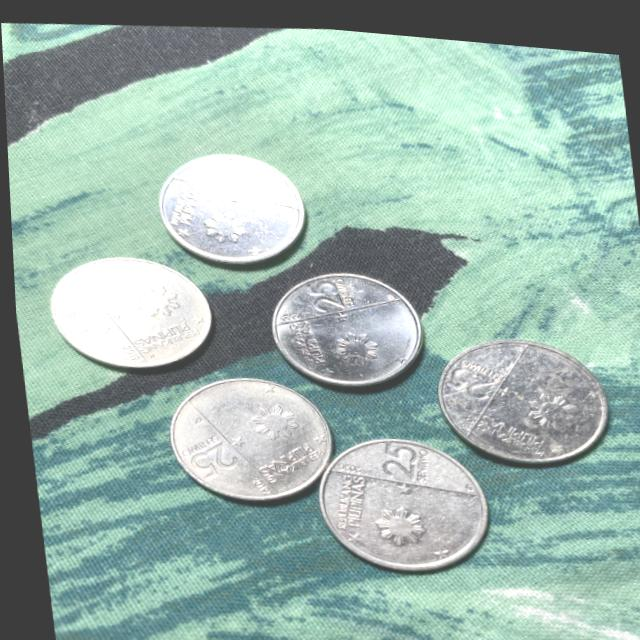25Cent_New_Front: (60, 304, 114, 347), (367, 431, 418, 475), (184, 436, 237, 477), (438, 353, 493, 392), (298, 270, 350, 308), (214, 154, 257, 189)
